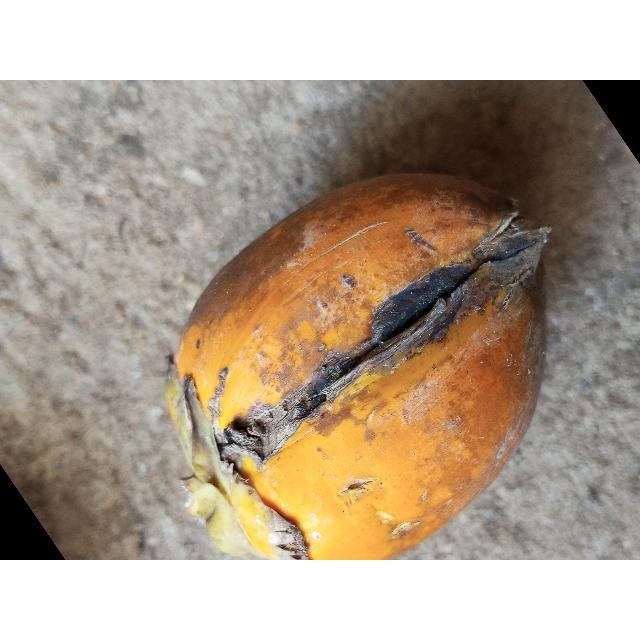damaged: (167, 173, 552, 560)
